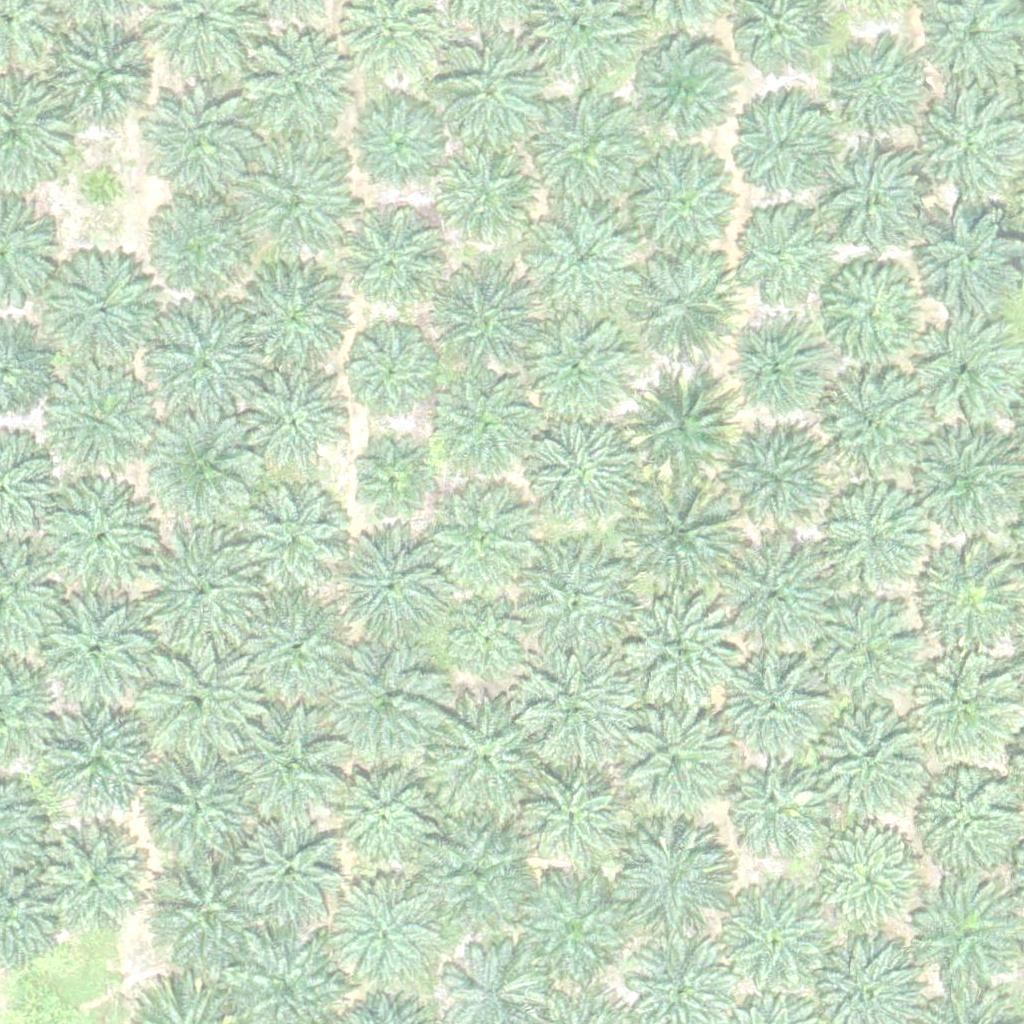Kelapa_Sawit: (144, 305, 269, 431), (137, 526, 262, 652), (133, 641, 258, 767), (429, 697, 554, 823), (515, 544, 640, 670), (520, 419, 633, 533), (431, 262, 544, 376), (238, 592, 351, 706), (235, 485, 348, 599), (816, 141, 929, 254), (817, 370, 930, 483), (433, 34, 546, 147), (146, 413, 259, 526), (40, 367, 153, 480), (43, 249, 156, 362), (45, 27, 158, 140), (234, 817, 347, 930), (231, 713, 344, 826), (521, 649, 634, 762), (615, 826, 728, 939), (618, 706, 731, 819), (623, 602, 736, 715), (720, 885, 833, 998), (238, 24, 350, 138), (239, 142, 351, 256), (145, 88, 257, 202), (330, 533, 442, 647), (332, 647, 444, 761), (420, 826, 532, 940), (515, 877, 627, 991), (722, 429, 834, 542), (628, 148, 740, 261), (624, 248, 736, 361), (629, 373, 741, 486), (525, 203, 637, 316), (530, 101, 642, 214), (236, 257, 348, 370), (38, 823, 150, 936), (45, 698, 157, 811), (37, 595, 149, 708), (42, 485, 154, 598), (142, 755, 254, 868), (149, 853, 261, 966), (624, 478, 736, 591), (719, 538, 831, 651), (715, 647, 827, 760), (813, 824, 925, 937), (814, 710, 926, 823), (823, 261, 923, 362), (728, 320, 828, 421), (731, 206, 831, 307), (735, 100, 835, 201), (638, 40, 738, 141), (245, 371, 345, 472), (150, 195, 250, 296), (338, 882, 438, 983), (432, 495, 532, 596), (725, 751, 825, 852), (813, 594, 913, 695), (823, 485, 923, 586), (923, 543, 1023, 644), (915, 660, 1015, 761), (918, 769, 1018, 870), (529, 314, 629, 414), (435, 152, 535, 252), (437, 374, 537, 474), (331, 765, 431, 865), (524, 761, 624, 861), (348, 330, 436, 418), (350, 225, 438, 313), (836, 41, 923, 129), (358, 105, 445, 193), (351, 445, 426, 521), (453, 604, 528, 680), (76, 166, 126, 216)
